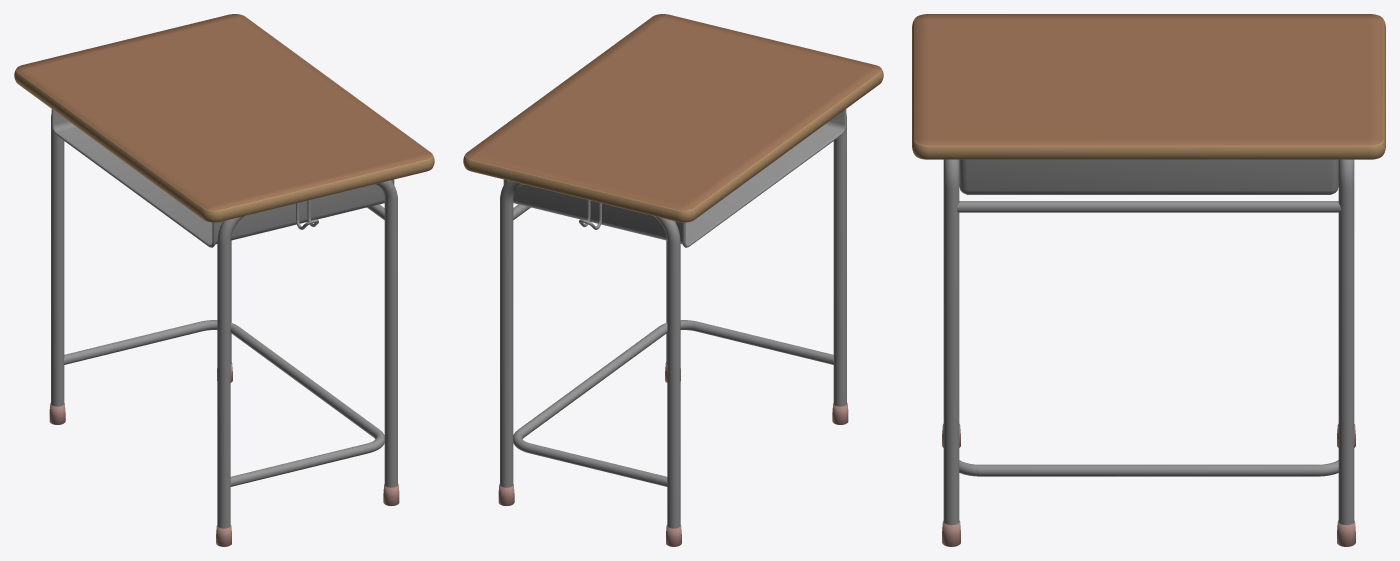
File: school_desk.glb
3 views of the same model, side by side, from view 1: azimuth 30°, elevation 25°; view 2: azimuth 150°, elevation 25°; view 3: azimuth 270°, elevation 25° (orthographic). The views are drawn at different scales.
Parts seen in each view (by area): view 1: school_desk_ita, school_desk_pipe-1, school_desk_hikidashi, school_desk_pipe-2, school_desk_ashi; view 2: school_desk_ita, school_desk_pipe-1, school_desk_hikidashi, school_desk_pipe-2, school_desk_ashi; view 3: school_desk_ita, school_desk_hikidashi, school_desk_pipe-1, school_desk_pipe-2, school_desk_pipe-3, school_desk_ashi.
Part boxes in pixels (x1,y1,x2,y2): school_desk_ita: (14, 14, 434, 222); school_desk_pipe-1: (51, 114, 397, 528); school_desk_hikidashi: (51, 109, 394, 247); school_desk_pipe-2: (64, 320, 384, 486); school_desk_ashi: (49, 362, 399, 546); school_desk_ita: (463, 14, 883, 222); school_desk_pipe-1: (500, 114, 846, 528); school_desk_hikidashi: (503, 109, 846, 247); school_desk_pipe-2: (513, 320, 833, 486); school_desk_ashi: (498, 362, 848, 546); school_desk_ita: (912, 14, 1385, 159); school_desk_hikidashi: (959, 159, 1338, 194); school_desk_pipe-1: (943, 159, 1354, 525); school_desk_pipe-2: (959, 460, 1338, 476); school_desk_pipe-3: (956, 201, 1341, 212); school_desk_ashi: (942, 424, 1355, 546).
Size of the model in its own units: 0.4 by 0.58 by 0.6.
